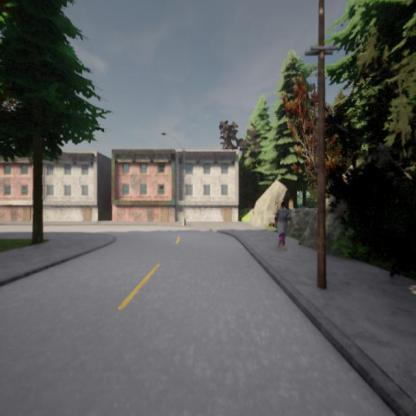person: (275, 202, 291, 250)
